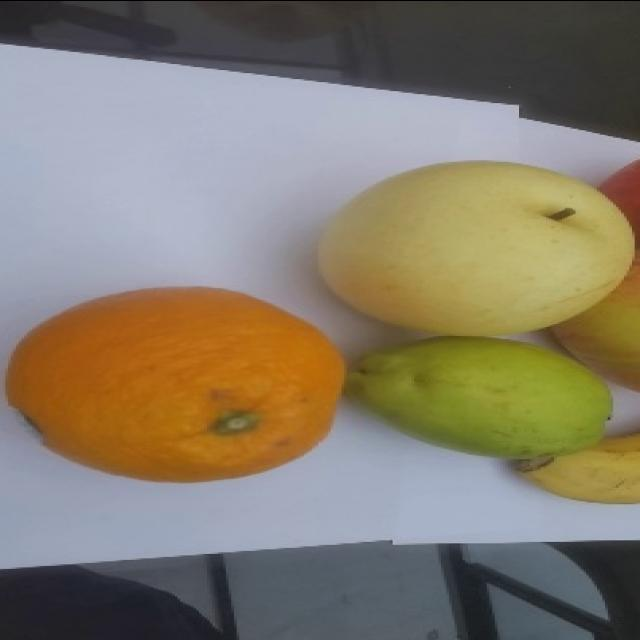Banana: (515, 431, 639, 504)
Orange: (5, 284, 346, 483)
